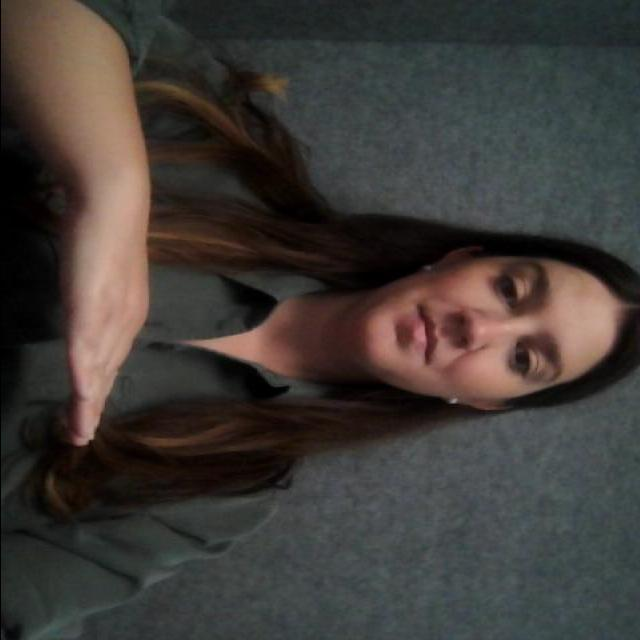Paper: (50, 153, 154, 448)
